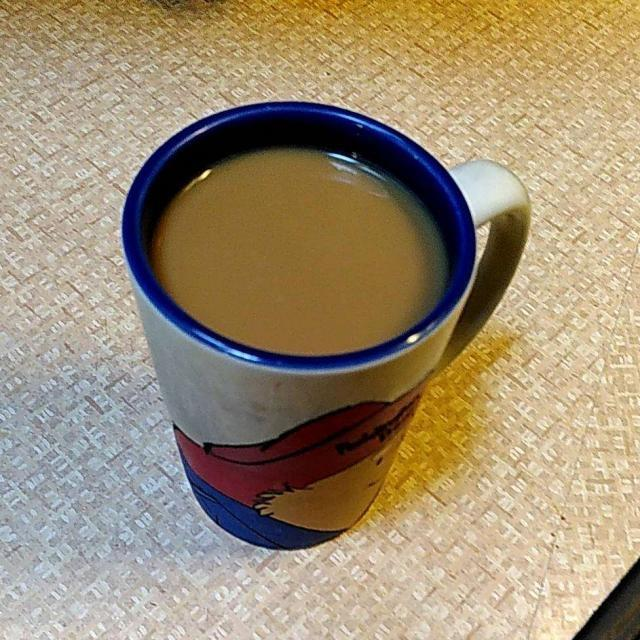coffee: (155, 144, 443, 354)
